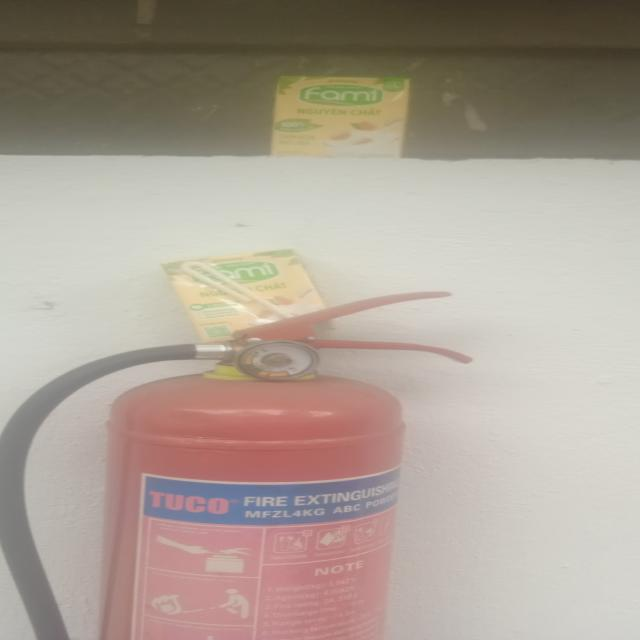Fami: (168, 251, 329, 343), (266, 77, 417, 158)
